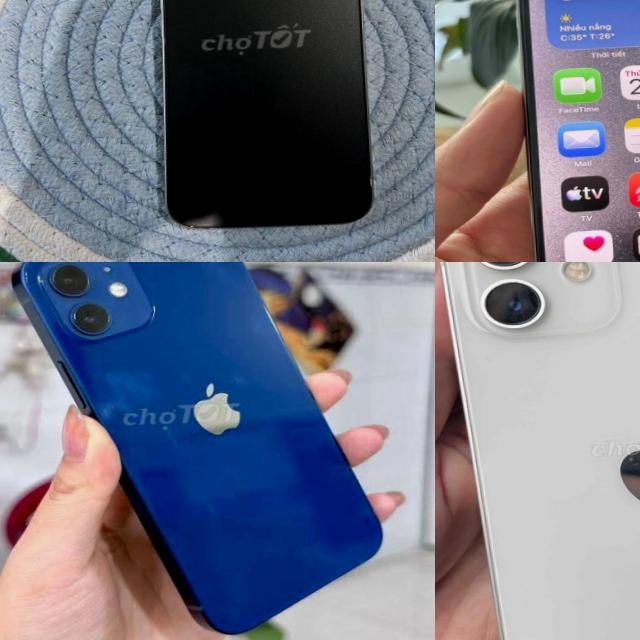gen_12_13: (12, 262, 386, 640), (441, 262, 640, 640)
gen_15: (137, 0, 389, 254), (503, 0, 640, 262)
scratch: (589, 407, 640, 528), (180, 219, 218, 229), (365, 169, 379, 190)
